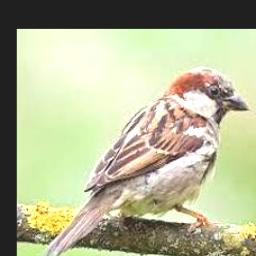Sparrow: (43, 67, 250, 256)
